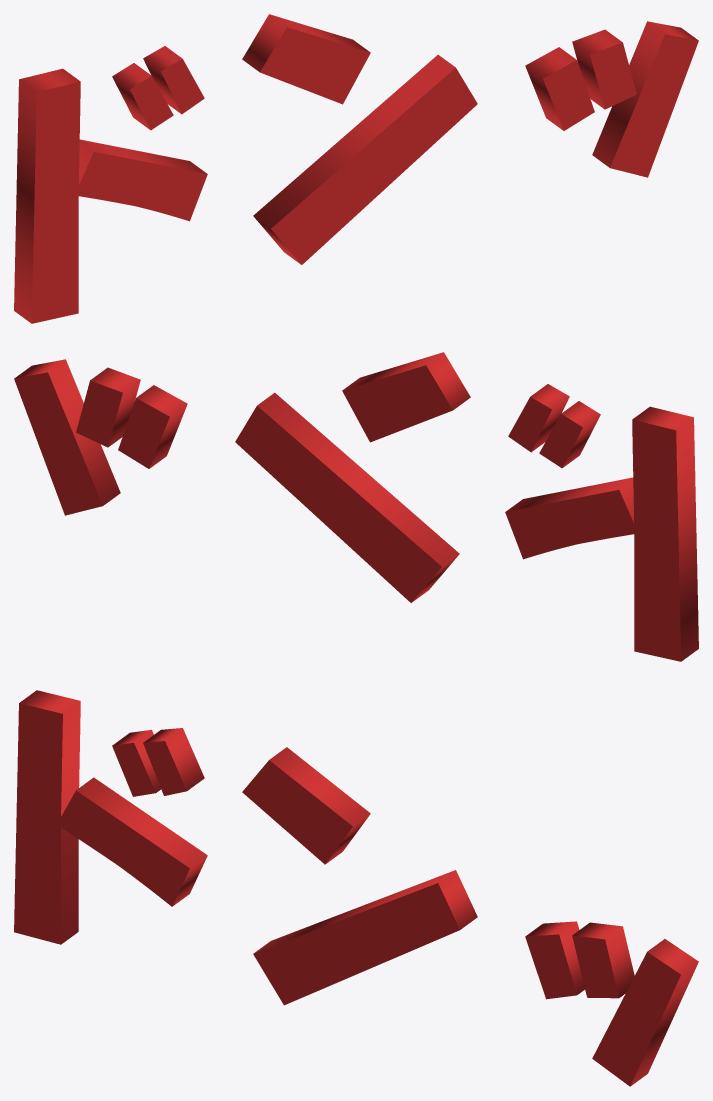
Rendered from bang.obj.
3 views of the same model, one above another, from view 1: azimuth 30°, elevation 25°; view 2: azimuth 150°, elevation 25°; view 3: azimuth 330°, elevation 25° (orthographic).
Visible parts, largest first — view 1: テキスト.002; view 2: テキスト.002; view 3: テキスト.002.
Part boxes in pixels (x1=…): テキスト.002: x1=14, y1=14, x2=698, y2=323; テキスト.002: x1=14, y1=352, x2=698, y2=661; テキスト.002: x1=14, y1=690, x2=698, y2=1086.
Size of the model in its own units: 2.6 by 0.8988 by 0.12.
Materials: 1 (1 with a texture image).
